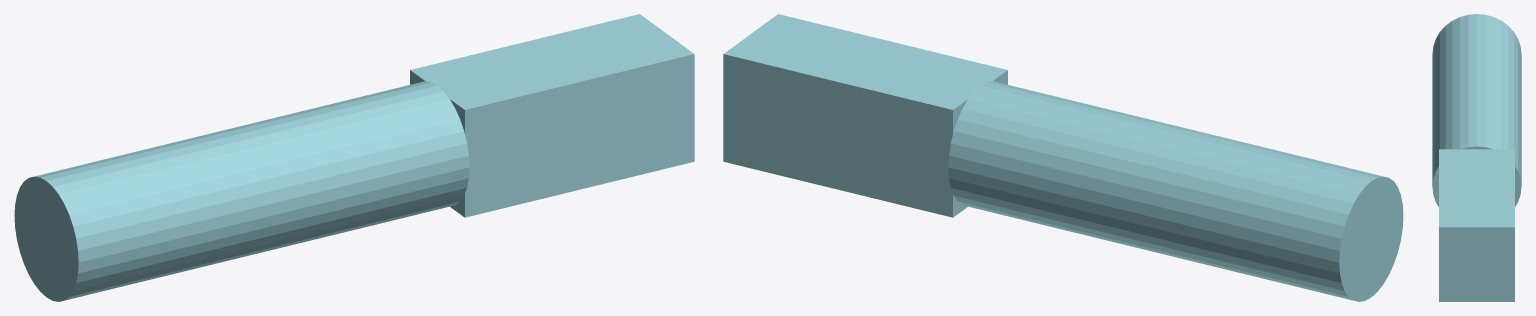
Rendered from cylinder_spatula_v6005.obj.
The picture shows the model from 3 angles, left to right: view 1: azimuth 30°, elevation 25°; view 2: azimuth 150°, elevation 25°; view 3: azimuth 270°, elevation 25°; orthographic projection. The views are drawn at different scales.
Bounding box in the file's own units: 0.1869 × 0.0335 × 0.0335.
1 material, 1 textured.
